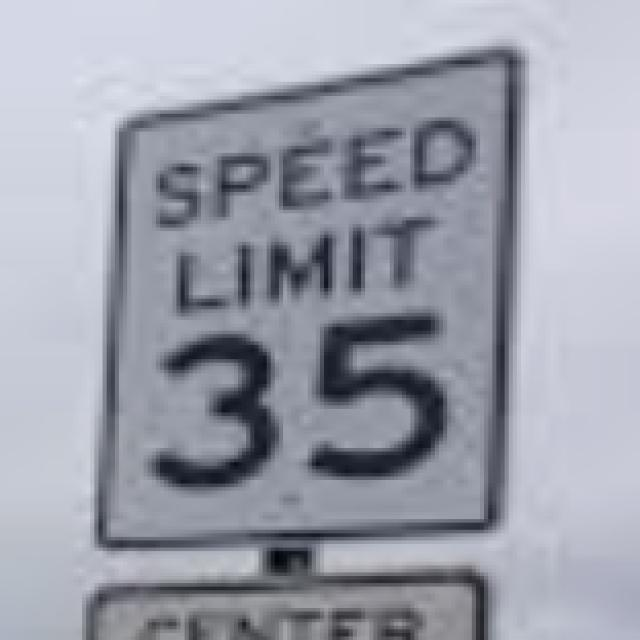speedLimit35: (90, 46, 524, 556)
